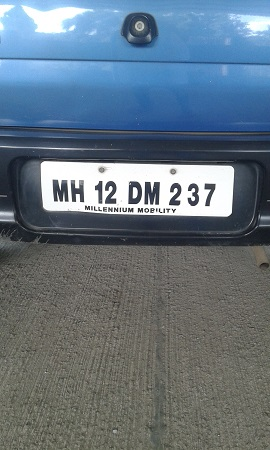licenseplate: (39, 158, 236, 218)
